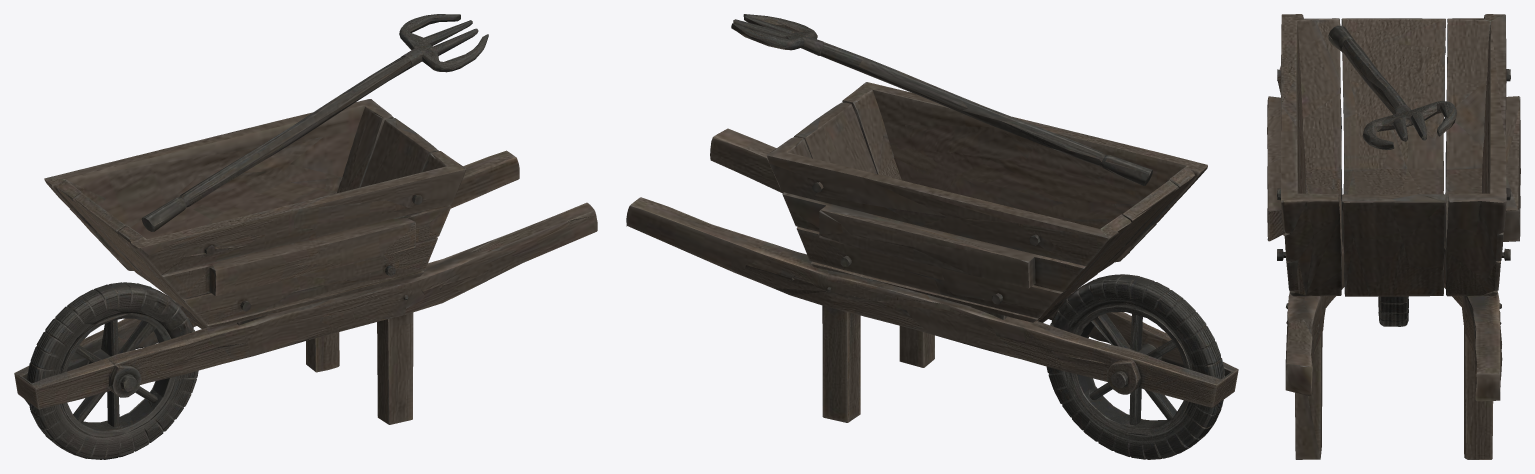
File: wheelbarrow.glb
3 renders of one model, left to right at view 1: azimuth 30°, elevation 25°; view 2: azimuth 150°, elevation 25°; view 3: azimuth 270°, elevation 25°, orthographic. The views are drawn at different scales.
Size of the model in its own units: 1.9 by 1.16 by 0.6711.
Materials: 1 (1 with a texture image).
